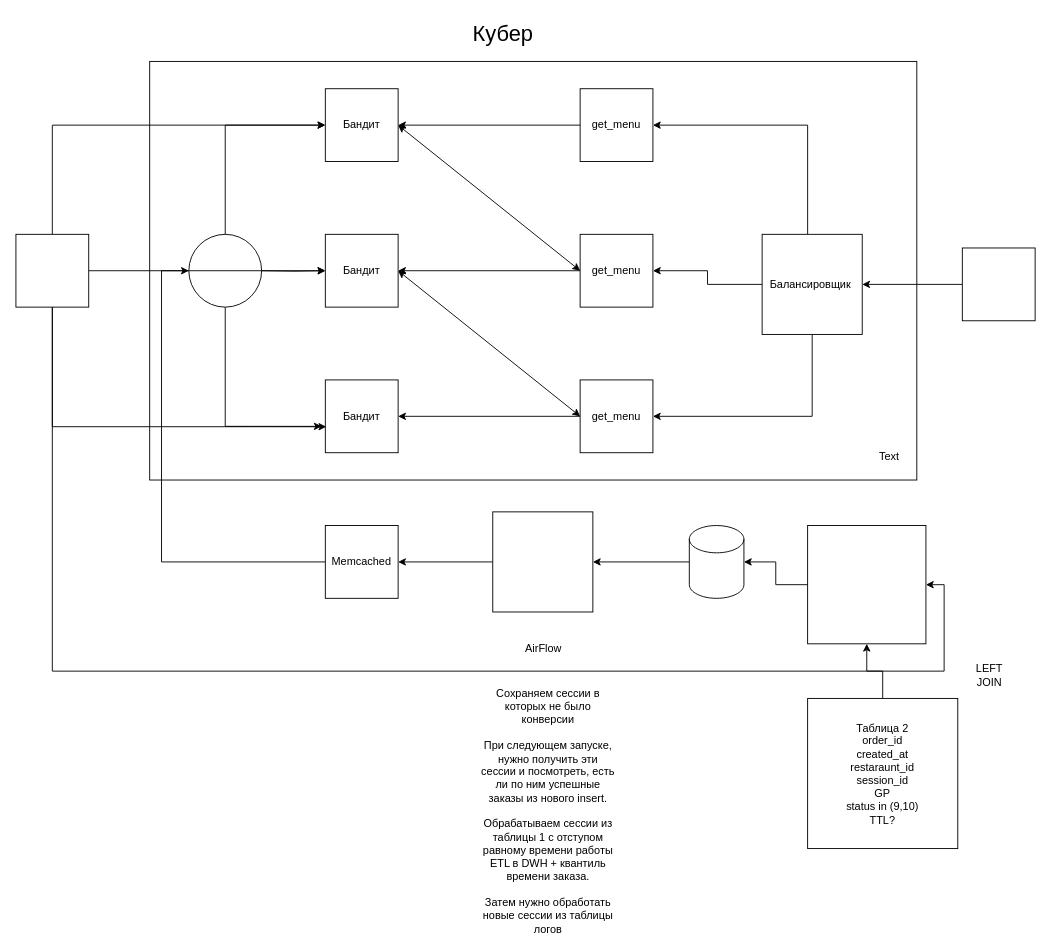
Image size: 1051x951. Some labels were removed from this diagram. Each missing label, with the box of its shape:
Киоски: (961, 247, 1035, 321)
Логи: (15, 233, 89, 307)
Разделение по ресторанам: (188, 233, 262, 307)
Сервис, который фоном считает reward и отправляет в сервисы с бандитами: (492, 511, 593, 612)
Таблица 1 session_id arm_id bandit_id done: (807, 525, 926, 644)
